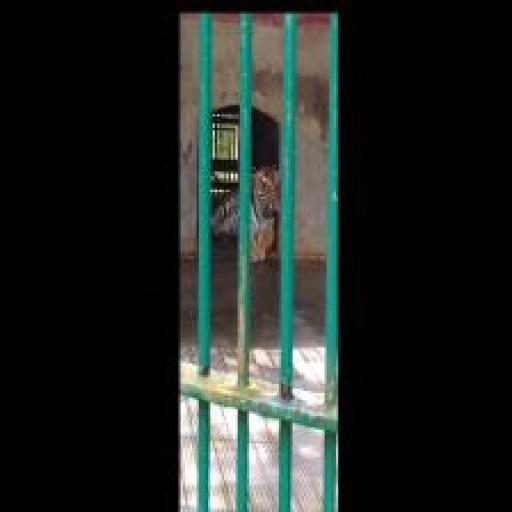Tiger: (212, 160, 284, 269)
